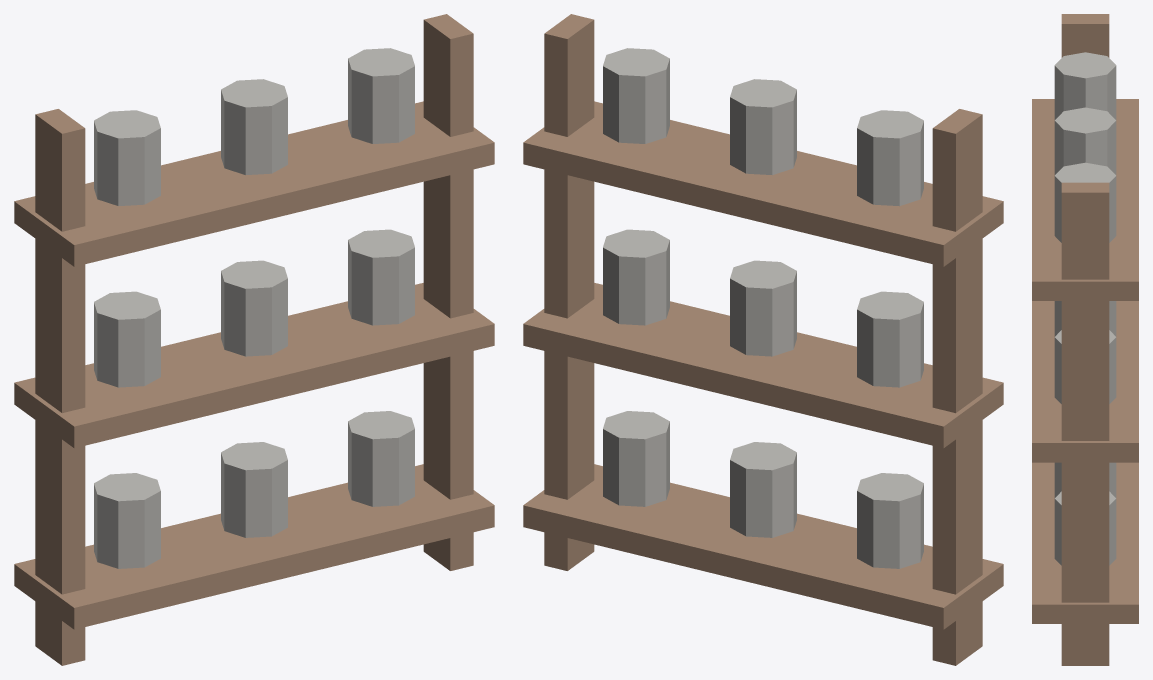
The model's file is tea_ceramic_shelf.glb.
3 views of the same model, side by side, from view 1: azimuth 30°, elevation 25°; view 2: azimuth 150°, elevation 25°; view 3: azimuth 270°, elevation 25° (orthographic). The views are drawn at different scales.
Visible parts, largest first — view 1: box_6, box_2, box_10, box_0, box_1, cylinder_9, cylinder_8, cylinder_12, cylinder_7, cylinder_11, cylinder_5, cylinder_13 (+2 smaller); view 2: box_6, box_2, box_10, box_0, box_1, cylinder_9, cylinder_8, cylinder_12, cylinder_7, cylinder_11, cylinder_5, cylinder_13 (+2 smaller); view 3: box_1, box_10, box_2, box_6, cylinder_12, cylinder_11, box_0, cylinder_13, cylinder_5, cylinder_9, cylinder_4, cylinder_8.
Boxes of the visible parts, bbox=[...] form: box_6: bbox=[14, 283, 494, 448]; box_2: bbox=[14, 464, 494, 629]; box_10: bbox=[14, 101, 494, 266]; box_0: bbox=[35, 109, 85, 665]; box_1: bbox=[423, 14, 473, 570]; cylinder_9: bbox=[348, 229, 414, 325]; cylinder_8: bbox=[221, 260, 287, 356]; cylinder_12: bbox=[221, 79, 287, 175]; cylinder_7: bbox=[94, 291, 160, 387]; cylinder_11: bbox=[94, 110, 160, 206]; cylinder_5: bbox=[348, 411, 414, 506]; cylinder_13: bbox=[348, 48, 414, 143]; box_6: bbox=[523, 283, 1003, 448]; box_2: bbox=[523, 464, 1003, 629]; box_10: bbox=[523, 101, 1003, 266]; box_0: bbox=[932, 109, 982, 665]; box_1: bbox=[544, 14, 594, 570]; cylinder_9: bbox=[603, 229, 669, 325]; cylinder_8: bbox=[730, 260, 796, 356]; cylinder_12: bbox=[730, 79, 796, 175]; cylinder_7: bbox=[857, 291, 923, 387]; cylinder_11: bbox=[857, 110, 923, 206]; cylinder_5: bbox=[603, 411, 669, 506]; cylinder_13: bbox=[603, 48, 669, 143]; box_1: bbox=[1061, 182, 1109, 665]; box_10: bbox=[1032, 99, 1138, 300]; box_2: bbox=[1032, 462, 1138, 623]; box_6: bbox=[1032, 301, 1138, 462]; cylinder_12: bbox=[1054, 107, 1116, 175]; cylinder_11: bbox=[1054, 52, 1116, 119]; box_0: bbox=[1061, 14, 1109, 57]; cylinder_13: bbox=[1054, 162, 1116, 242]; cylinder_5: bbox=[1054, 491, 1116, 565]; cylinder_9: bbox=[1054, 330, 1116, 403]; cylinder_4: bbox=[1054, 462, 1116, 497]; cylinder_8: bbox=[1054, 301, 1116, 336].
Bounding box in the file's own units: 1.82 × 2.2 × 0.45.
